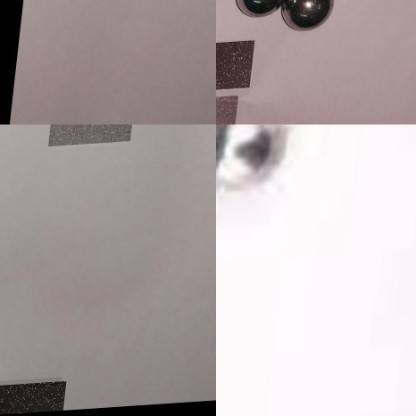ironball: (216, 124, 291, 192), (279, 0, 339, 29), (233, 0, 285, 19)
